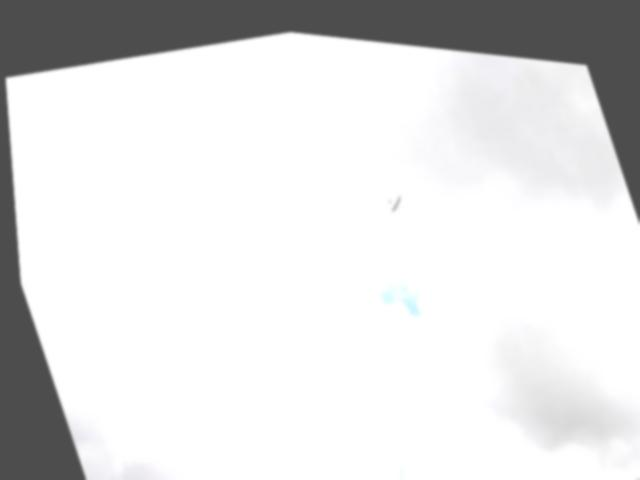iha: (383, 184, 405, 207)
